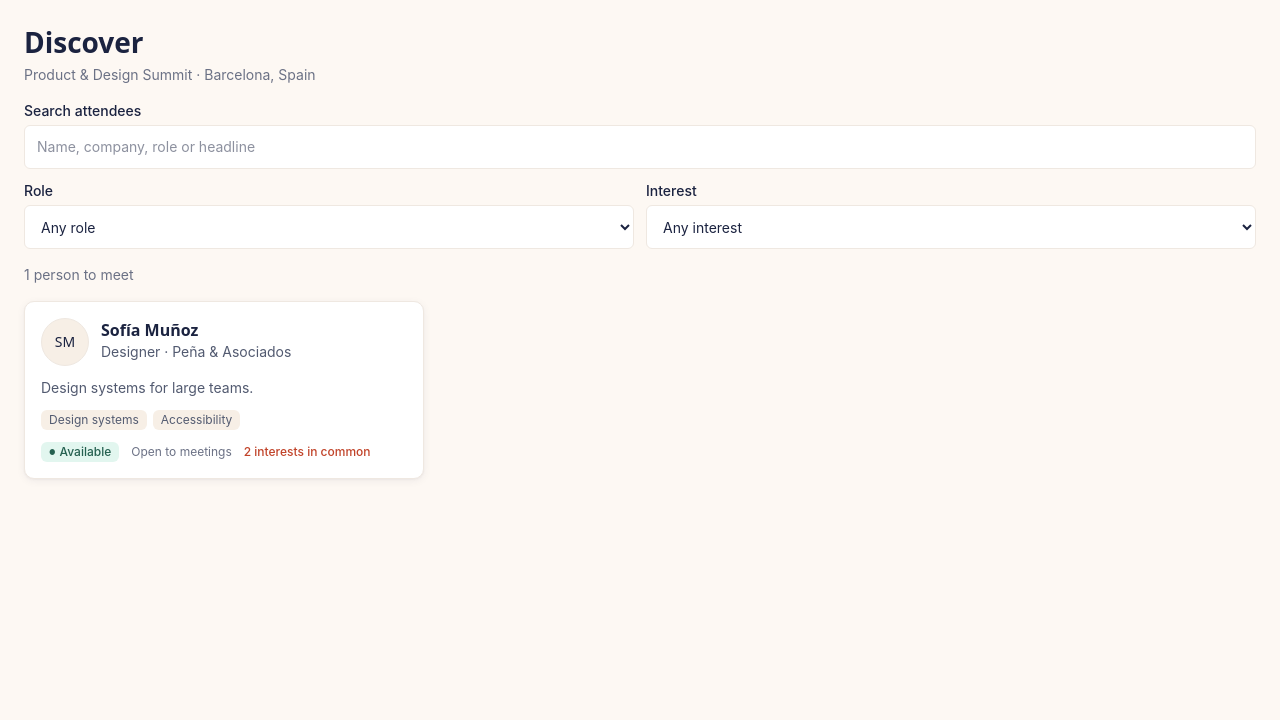
Discover: labelling and announcement › announces the result count, and the search field points at it
This screenshot has width=1280, height=720.
Expected: the heading "Sofía Muñoz" is shown, [101,319,198,341]
In the search field labelled "Search attendees": (640, 147) [24,125,1256,169], type "zzz"
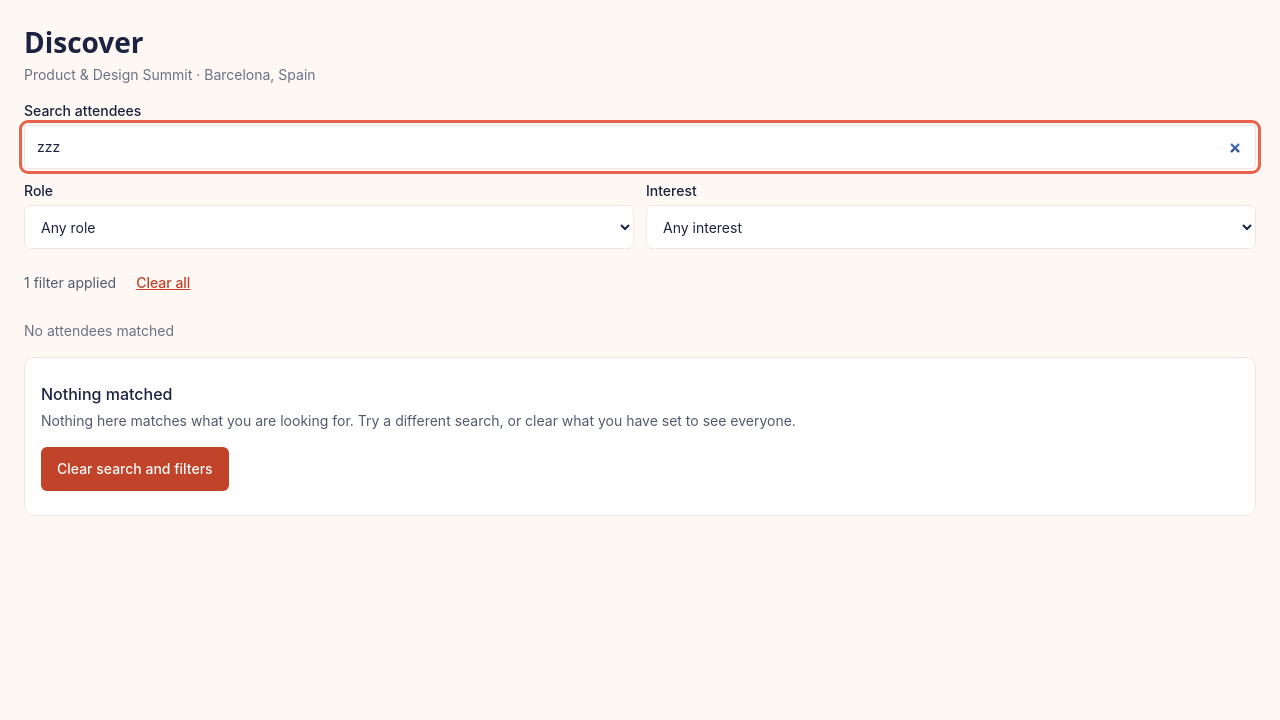
Expected: the text "No attendees matched" is shown, [24,322,174,339]
